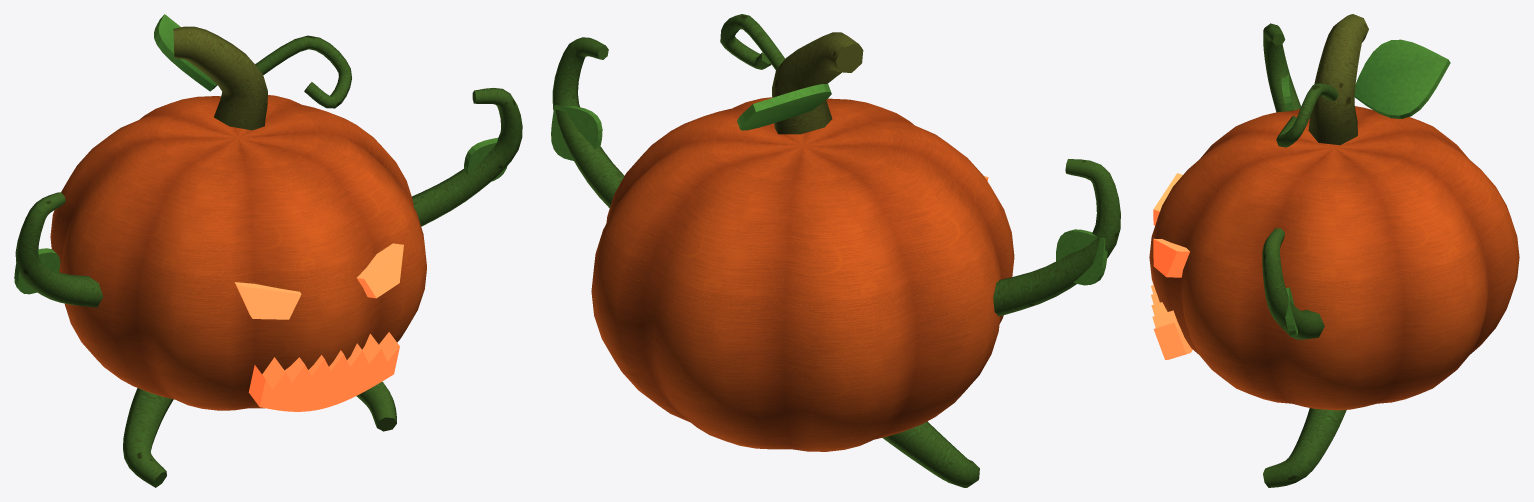
3 renders of one model, left to right at view 1: azimuth 30°, elevation 25°; view 2: azimuth 150°, elevation 25°; view 3: azimuth 270°, elevation 25°, orthographic. The views are drawn at different scales.
Parts seen in each view (by area): view 1: Body, Head, ArmL, ArmR, LegR, LegL; view 2: Body, Head, ArmR, ArmL, LegR; view 3: Body, Head, ArmL, LegL, ArmR.
Boxes of the visible parts, x1,y1,x2,y2 form: Body: [50, 95, 426, 411]; Head: [154, 14, 351, 130]; ArmL: [412, 88, 522, 226]; ArmR: [14, 192, 103, 307]; LegR: [123, 388, 173, 487]; LegL: [356, 381, 396, 431]; Body: [591, 97, 1014, 451]; Head: [720, 14, 863, 134]; ArmR: [993, 159, 1120, 316]; ArmL: [551, 37, 624, 208]; LegR: [882, 421, 979, 487]; Body: [1149, 106, 1519, 410]; Head: [1276, 14, 1450, 147]; ArmL: [1262, 228, 1324, 339]; LegL: [1263, 408, 1346, 487]; ArmR: [1263, 23, 1301, 112].
Size of the model in its own units: 1.51 by 1.18 by 1.
4 materials, 3 textured.
